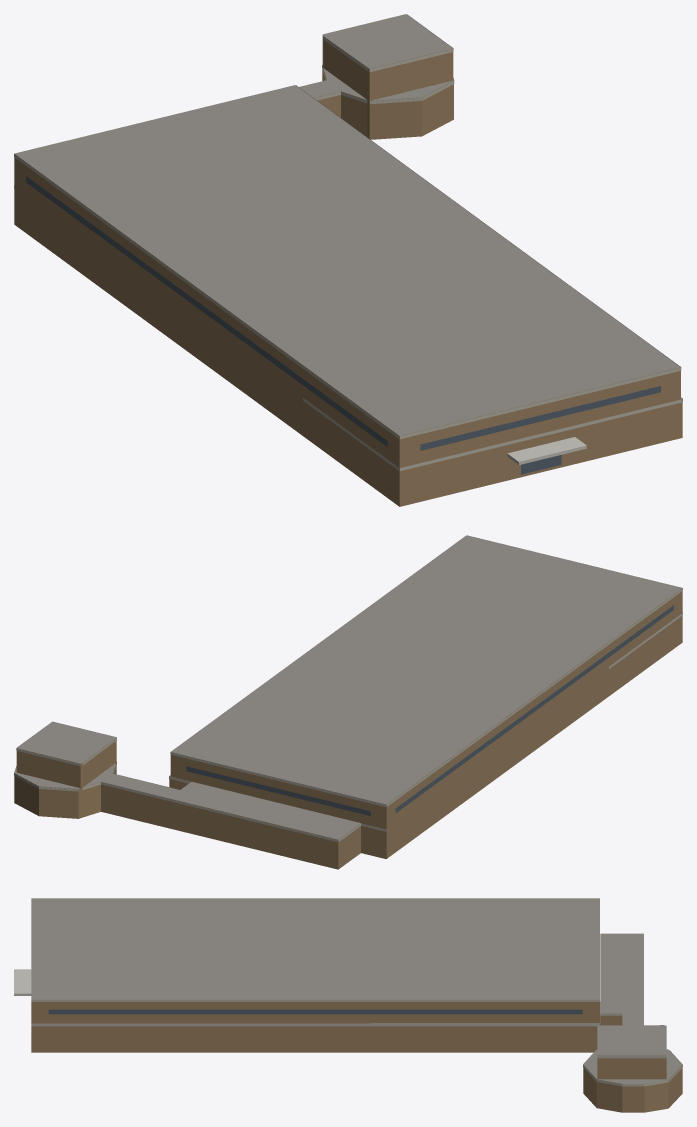
File: burns-park-tennis-center-nlr.glb
3 renders of one model, top to bottom at view 1: azimuth 30°, elevation 25°; view 2: azimuth 150°, elevation 25°; view 3: azimuth 270°, elevation 25°, orthographic. The views are drawn at different scales.
Visible parts, largest first — view 1: burns_park_tennis_center_nlr; view 2: burns_park_tennis_center_nlr; view 3: burns_park_tennis_center_nlr.
Boxes of the visible parts, left/top/right/bottom form: burns_park_tennis_center_nlr: left=14, top=14, right=682, bottom=506; burns_park_tennis_center_nlr: left=14, top=535, right=682, bottom=869; burns_park_tennis_center_nlr: left=14, top=898, right=682, bottom=1112.
Size of the model in its own units: 66.52 by 10 by 116.
